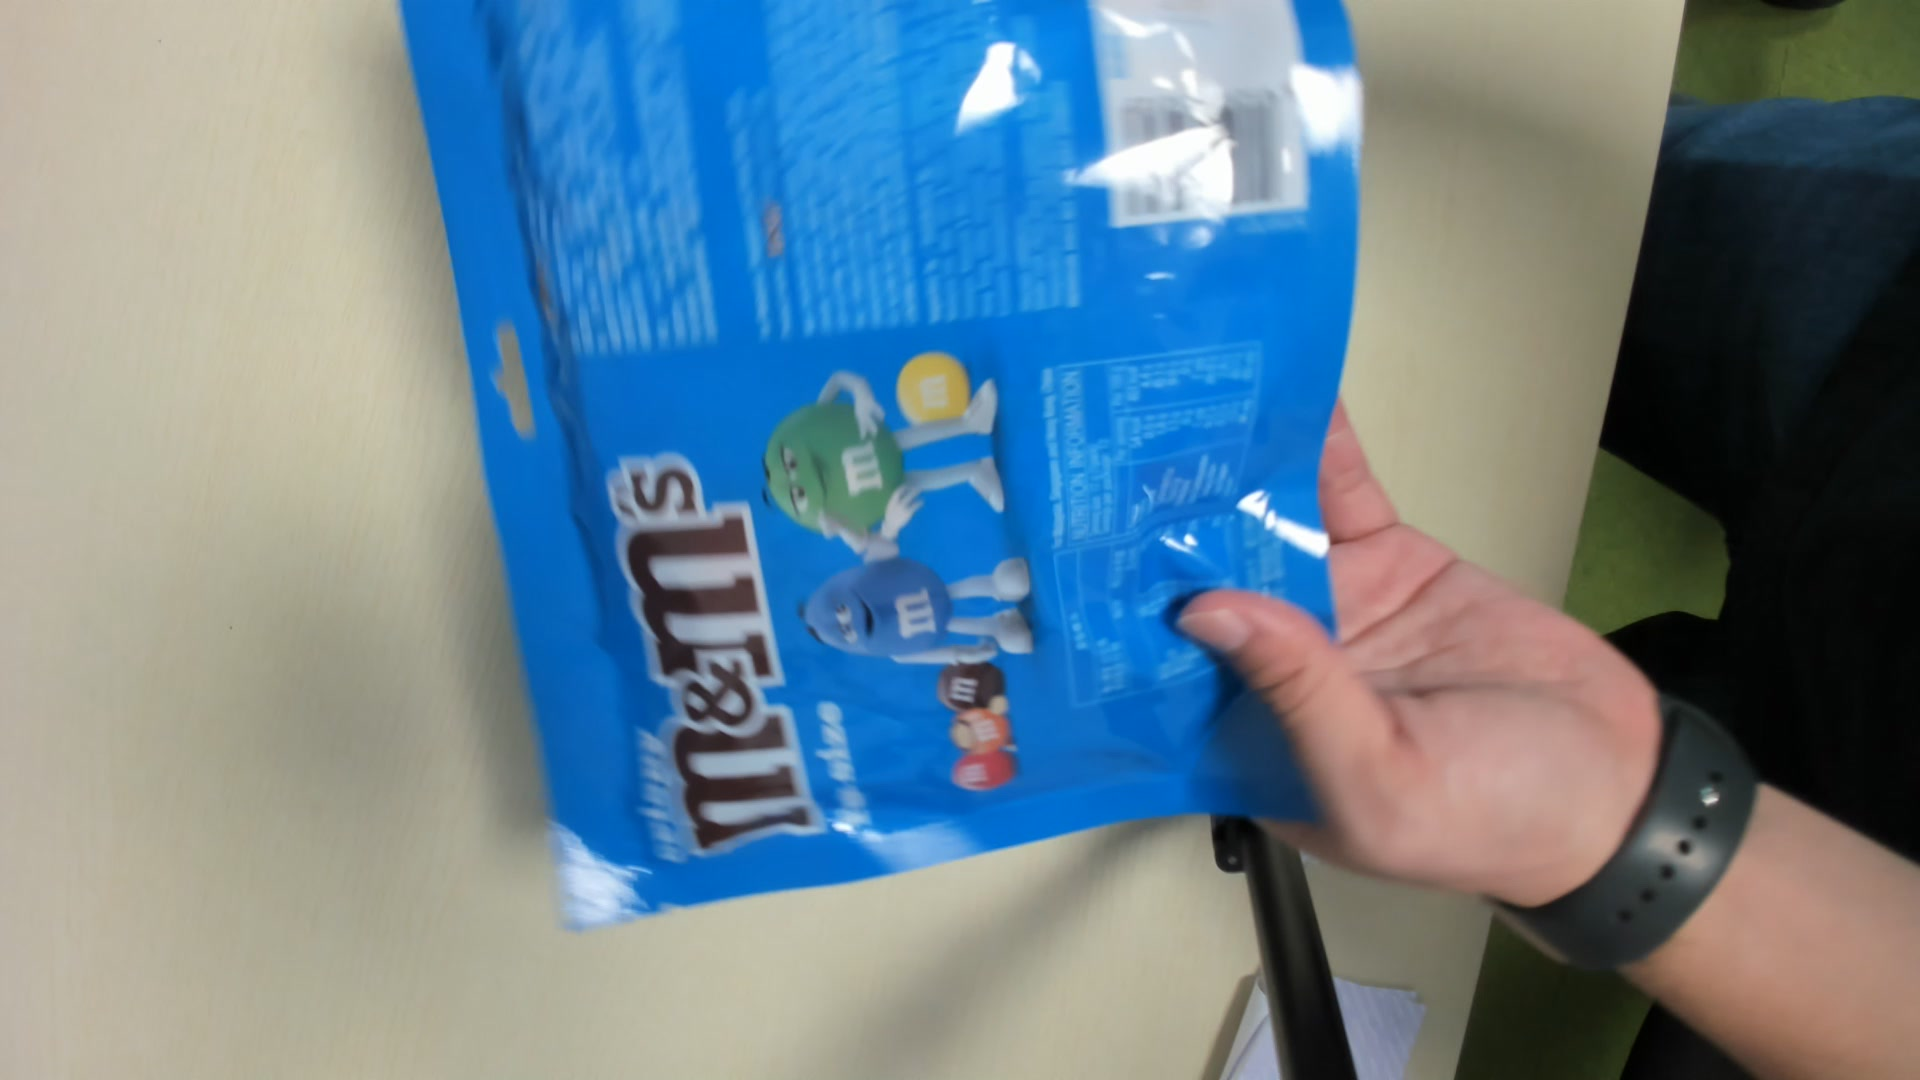SweetsChocolatesOthers_100-199g_Halal_Nonhealthy: (402, 5, 1377, 920)
